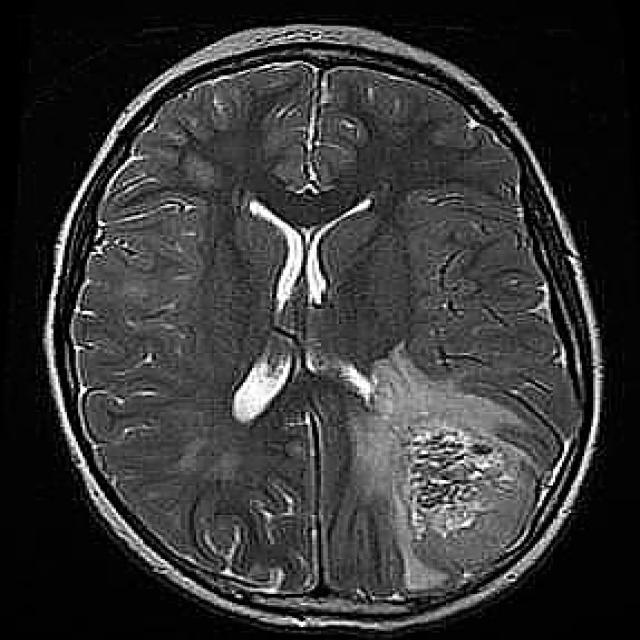Tumor-Cell: (348, 397, 568, 542)
